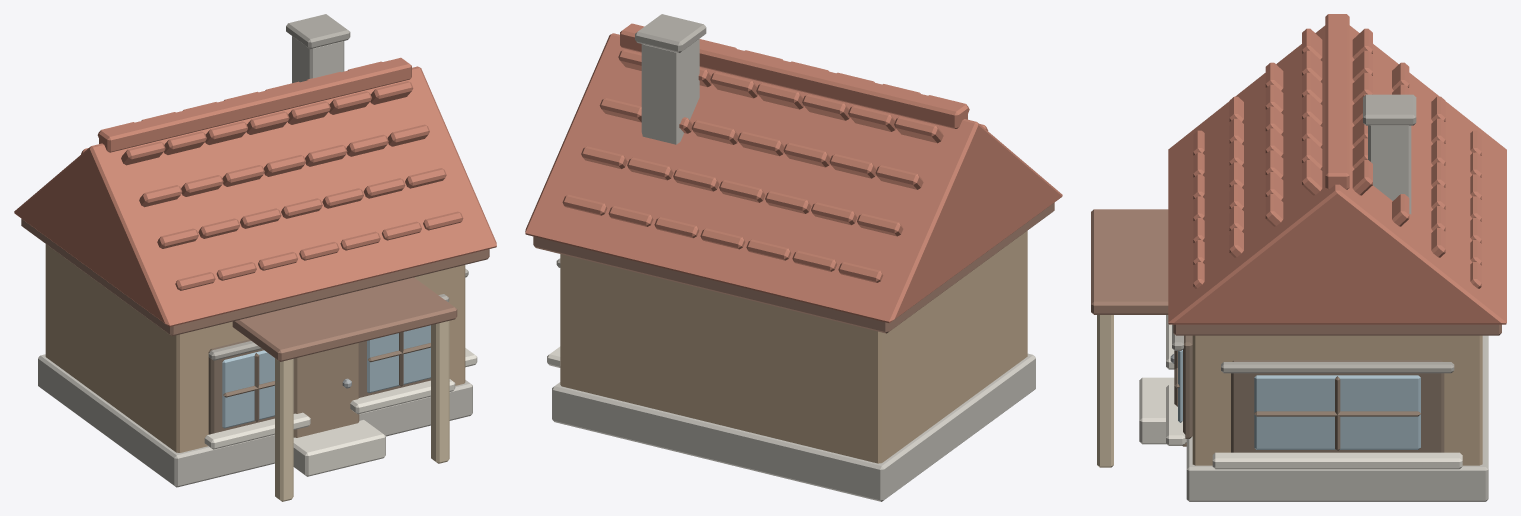
The model's file is house_wood_a.glb.
3 renders of one model, left to right at view 1: azimuth 30°, elevation 25°; view 2: azimuth 150°, elevation 25°; view 3: azimuth 270°, elevation 25°, orthographic. The views are drawn at different scales.
Visible parts, largest first — view 1: roof, wall, skirt, porch_roof, ridge, dframe, eave, step, wglass, wglass.001, post1, post2 (+28 smaller); view 2: roof, wall, skirt, ridge, eave, chimney, chcap, shingle.049, shingle.052, shingle.051, shingle.050, shingle.053 (+13 smaller); view 3: roof, wall, wglass.002, skirt, porch_roof, wframe.002, wsill.002, ridge, eave, chimney, wlintel.002, post2 (+18 smaller).
Boxes of the visible parts, x1,y1,x2,y2 form: roof: (14,66,496,326); wall: (45,244,465,452); skirt: (38,354,472,487); porch_roof: (232,277,457,361); ridge: (99,57,411,152); dframe: (293,343,359,437); eave: (21,219,489,336); step: (293,420,385,476); wglass: (222,350,274,428); wglass.001: (367,325,430,392); post1: (275,358,293,501); post2: (431,321,449,463); roof: (525,33,1062,323); wall: (560,231,1027,463); skirt: (552,353,1035,501); ridge: (620,23,967,128); eave: (533,202,1054,333); chimney: (641,39,699,144); chcap: (635,14,706,52); shingle.049: (894,117,943,143); shingle.052: (756,83,803,109); shingle.051: (802,94,849,120); shingle.050: (848,105,895,131); shingle.053: (710,72,757,98); roof: (1168,25,1506,324); wall: (1192,335,1482,465); wglass.002: (1254,375,1420,449); skirt: (1186,335,1488,501); porch_roof: (1091,209,1168,314); wframe.002: (1231,360,1444,452); wsill.002: (1212,452,1462,469); ridge: (1325,14,1349,189); eave: (1173,324,1501,335); chimney: (1368,125,1411,214); wlintel.002: (1221,362,1454,373); post2: (1097,315,1113,467).
Size of the model in its own units: 1.72 by 1.7 by 1.72.
